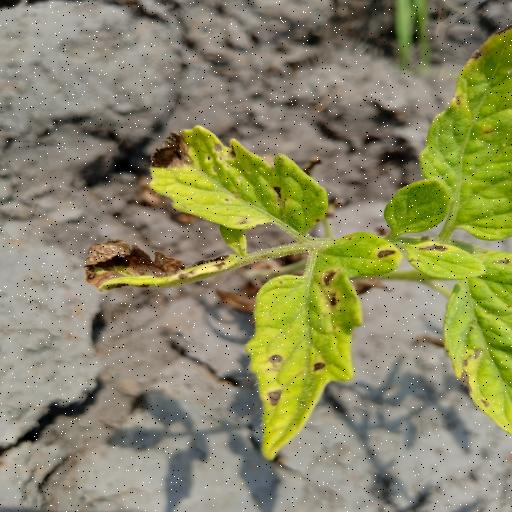Tomato_Brown_Spots: (246, 259, 368, 466), (138, 124, 337, 242), (417, 19, 512, 243), (438, 248, 512, 438)
